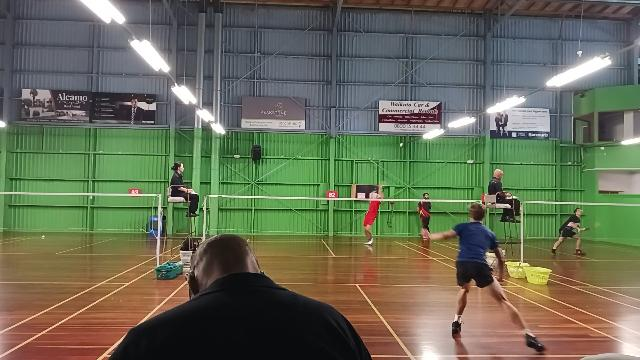Shuttlecock: (397, 141, 408, 147)
